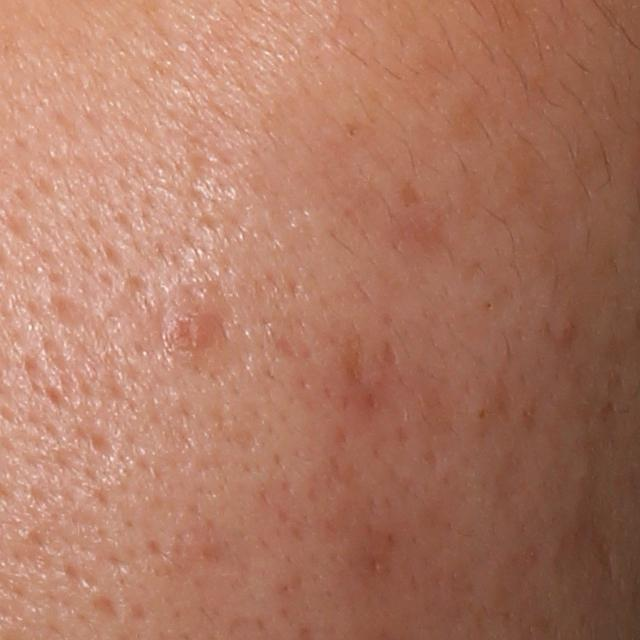atrophic_scar: (51, 289, 98, 334), (87, 595, 122, 624)
papule: (166, 304, 217, 348), (556, 320, 575, 343)
